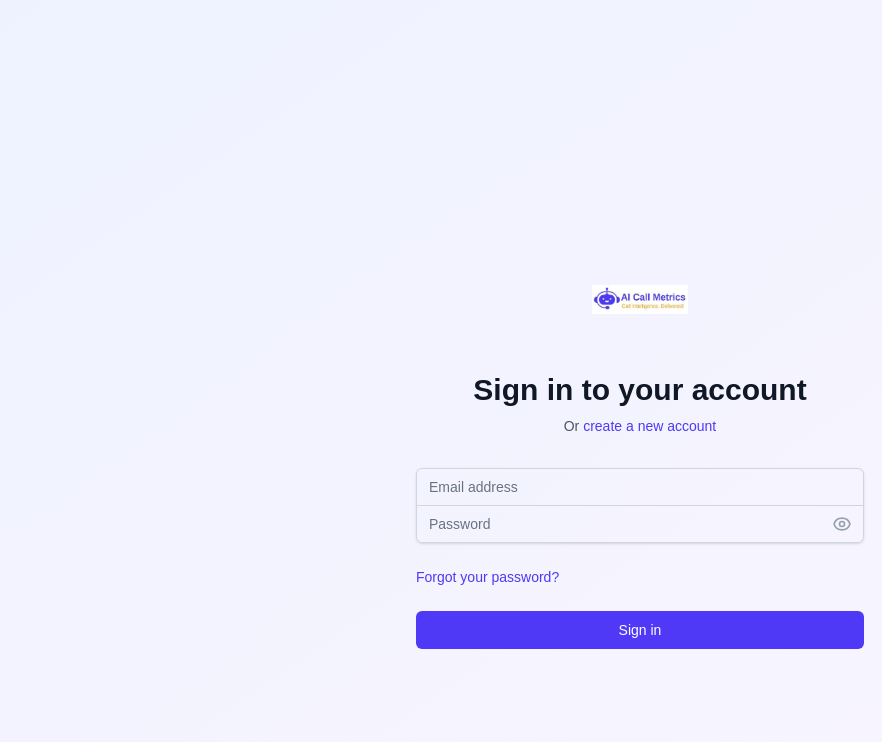
LoginForm › handles resend verification email failure
The width and height of the screenshot is (882, 742).
Type "test@example.com" into the field with placeholder "Email address". click: (640, 486)
box: 416,468 -> 864,506
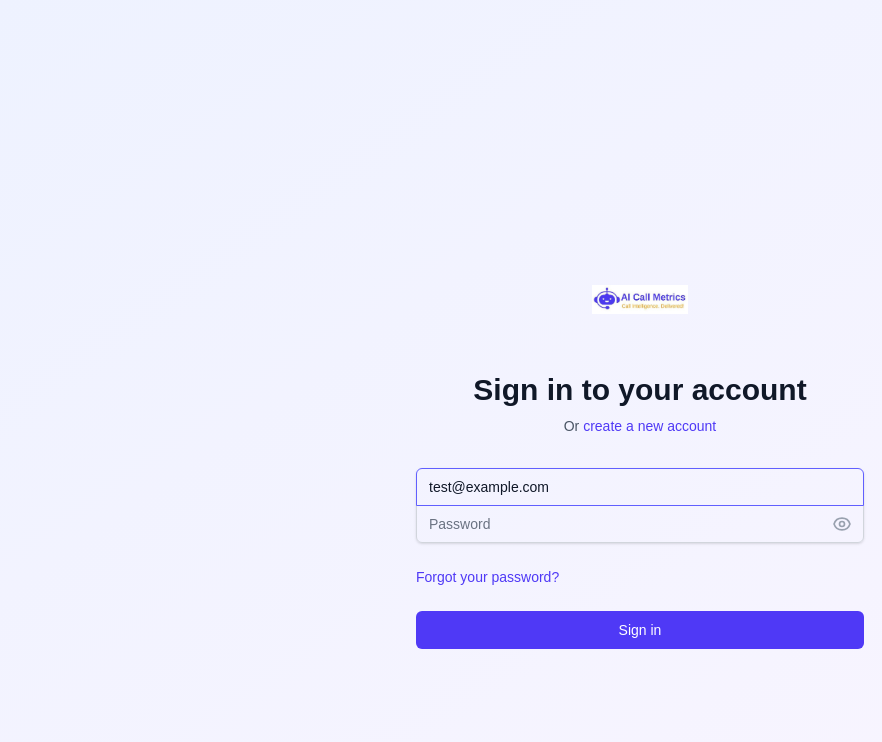
Type "password123" into the password field with placeholder "Password". click: (640, 524)
box: 416,504 -> 864,542
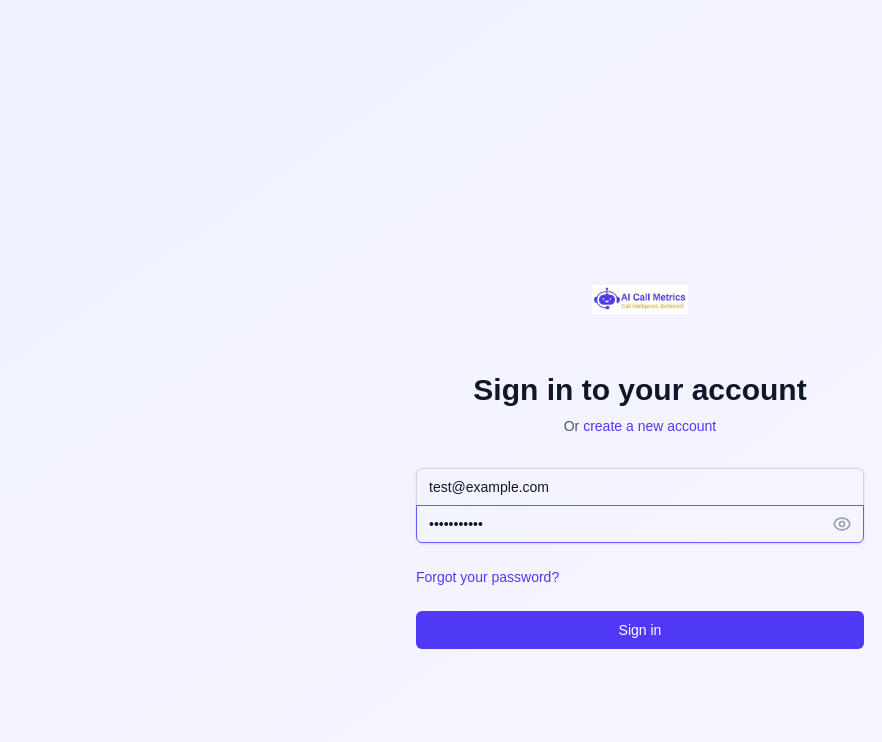
Click the button "Sign in". click: (640, 630)
box: 416,610 -> 864,648
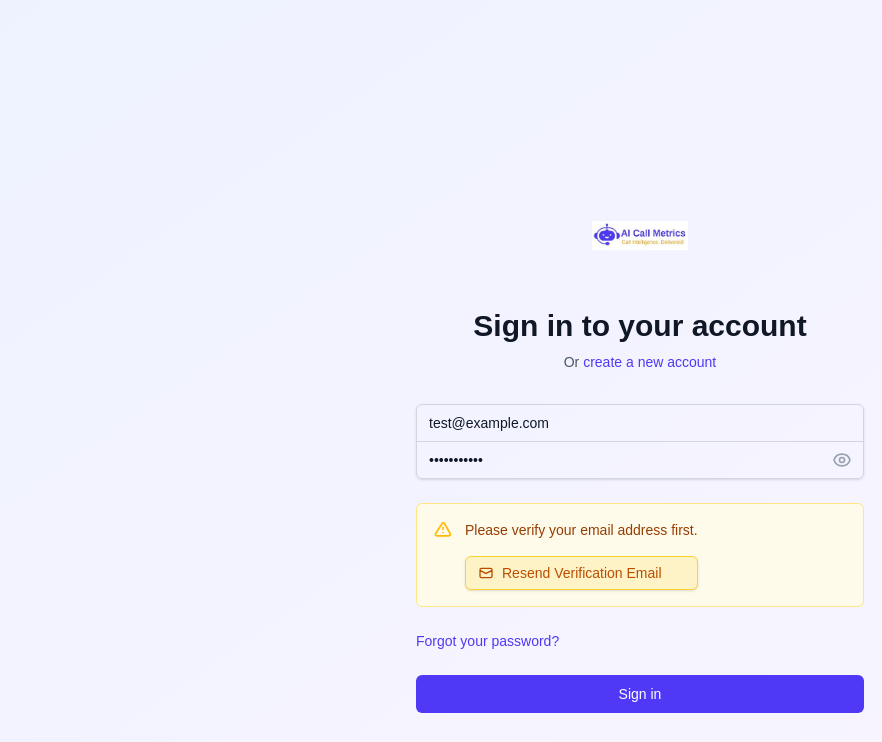
Result: the button "Resend Verification Email" is shown
Click the button "Resend Verification Email". click: (581, 572)
box: 465,556 -> 698,590
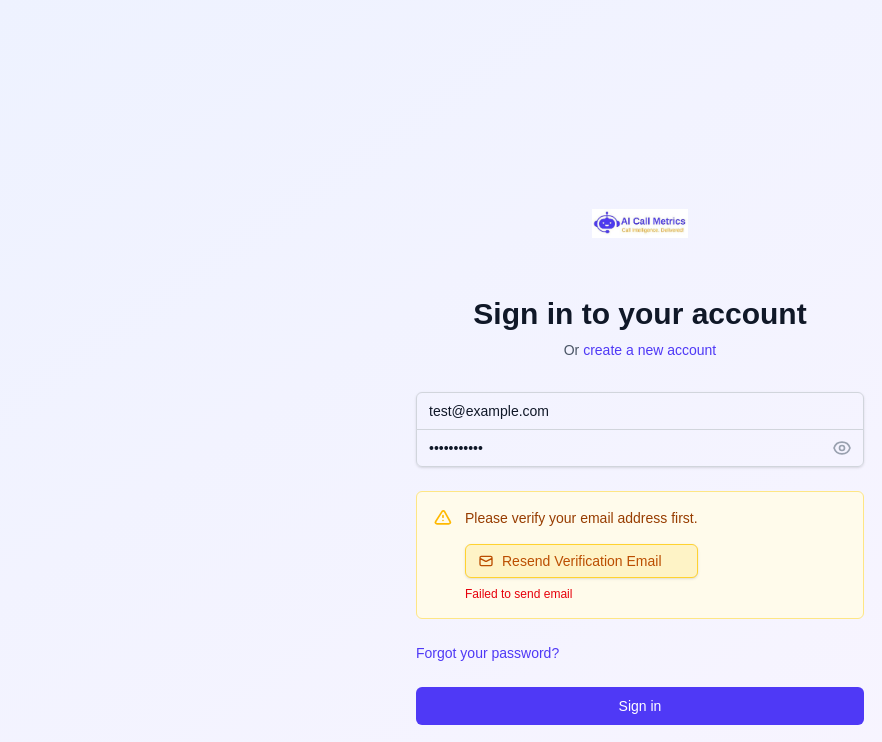
Result: the text "Failed to send email" is shown at 465,586 -> 572,600
